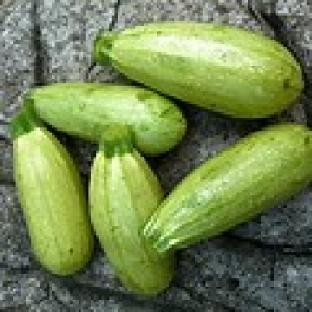Zucchini: (144, 123, 311, 252), (94, 21, 304, 117), (89, 125, 174, 293), (11, 107, 93, 275), (26, 84, 187, 156)
